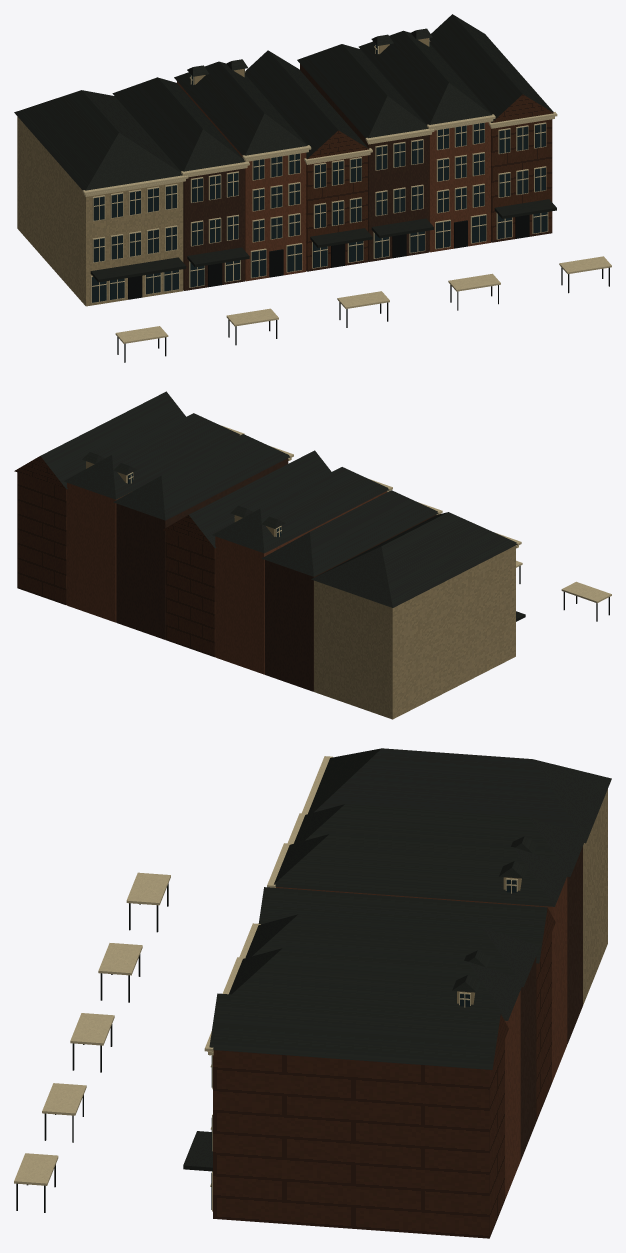
3 renders of one model, top to bottom at view 1: azimuth 30°, elevation 25°; view 2: azimuth 150°, elevation 25°; view 3: azimuth 270°, elevation 25°, orthographic. The views are drawn at different scales.
Parts seen in each view (by area): view 1: goudsesingel-markt-1, goudsesingel-markt-3, goudsesingel-markt-2, goudsesingel-markt-0, goudsesingel-markt-7, goudsesingel-markt-6, goudsesingel-markt-5, goudsesingel-markt-4; view 2: goudsesingel-markt-1, goudsesingel-markt-0, goudsesingel-markt-5, goudsesingel-markt-7, goudsesingel-markt-6, goudsesingel-markt-2; view 3: goudsesingel-markt-1, goudsesingel-markt-7, goudsesingel-markt-2, goudsesingel-markt-6, goudsesingel-markt-5, goudsesingel-markt-0, goudsesingel-markt-4.
Boxes of the visible parts, x1,y1,x2,y2 form: goudsesingel-markt-1: (14,14,556,282); goudsesingel-markt-3: (92,38,547,302); goudsesingel-markt-2: (82,38,611,343); goudsesingel-markt-0: (17,38,428,306); goudsesingel-markt-7: (306,94,553,271); goudsesingel-markt-6: (177,81,490,281); goudsesingel-markt-5: (183,64,429,290); goudsesingel-markt-4: (117,215,609,362); goudsesingel-markt-1: (40,391,525,621); goudsesingel-markt-0: (86,461,515,719); goudsesingel-markt-5: (116,458,436,691); goudsesingel-markt-7: (14,456,215,657); goudsesingel-markt-6: (67,483,386,674); goudsesingel-markt-2: (127,425,611,603); goudsesingel-markt-1: (183,748,611,1171); goudsesingel-markt-7: (213,908,555,1238); goudsesingel-markt-2: (14,756,517,1211); goudsesingel-markt-6: (276,877,567,1199); goudsesingel-markt-5: (520,846,582,1160); goudsesingel-markt-0: (457,789,607,1005); goudsesingel-markt-4: (16,883,168,1212).
Bounding box in the file's own units: 56.91 × 17 × 42.64.
8 materials, 8 textured.
